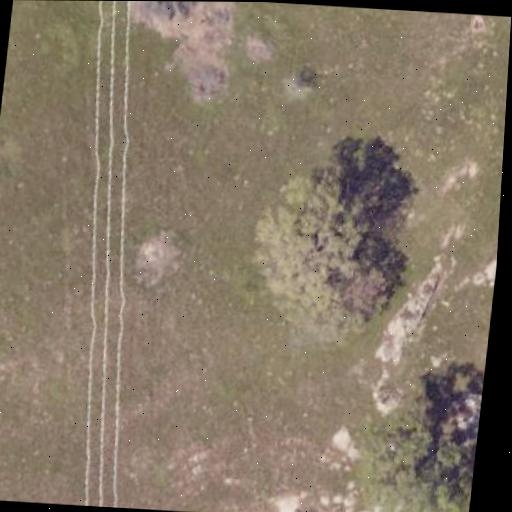tree-top: (231, 165, 413, 349), (342, 392, 482, 512)
